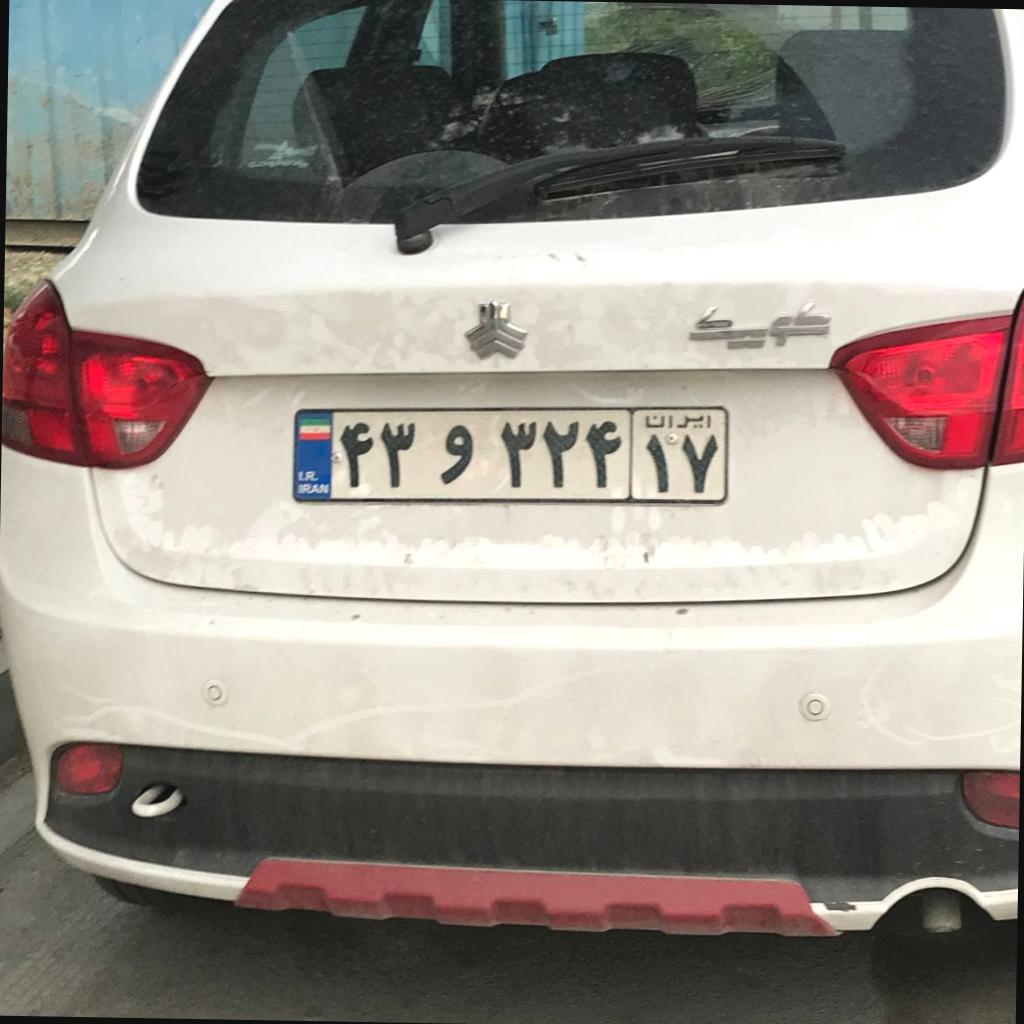Plates: (294, 409, 726, 503)
